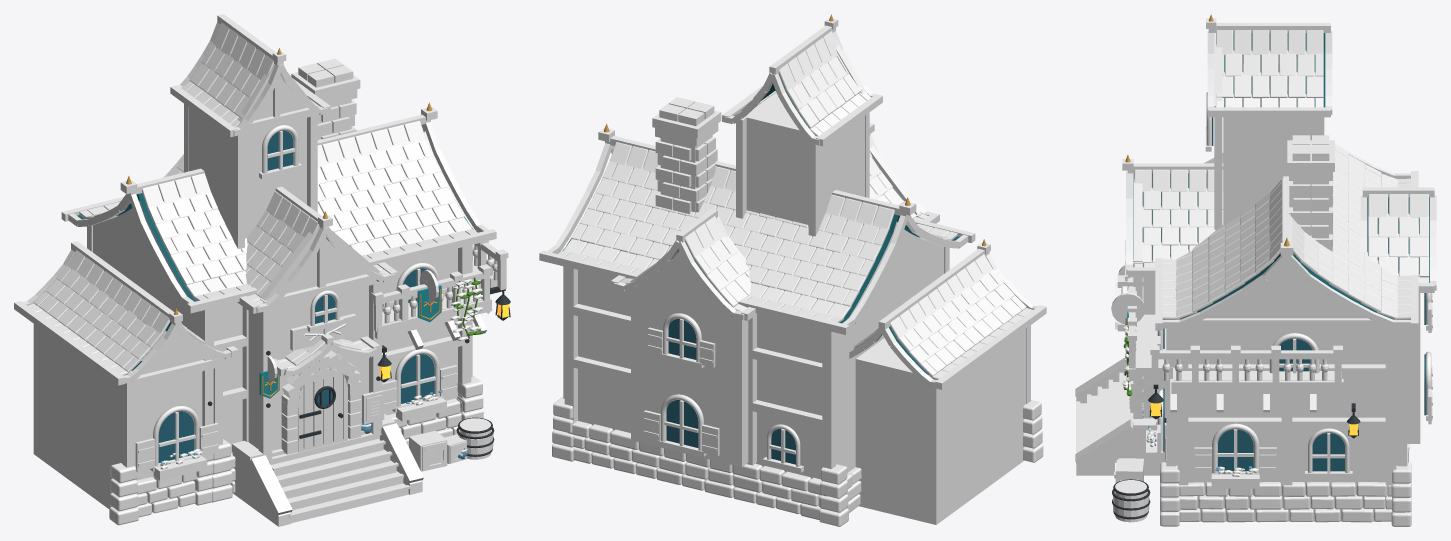
File: Maison_Fantasy_Modulaire.gltf
3 views of the same model, side by side, from view 1: azimuth 30°, elevation 25°; view 2: azimuth 150°, elevation 25°; view 3: azimuth 270°, elevation 25° (orthographic).
Parts seen in each view (by area): view 1: Wall_LeftWing_Block, Wall_Main_Block, Wall_Upper_Dormer_Block, Wall_Entry_Projection, Foundation_LeftWing_Core, Door_Front_Main_Leaf, Roof_Main_Front_Eave_Beam, Timber_Entry_Post_-2.79, Wall_Main_Left_Gable, Roof_LeftWing_Left_Eave_Beam, Stair_Cheek_L, Wall_Entry_Gable (+46 smaller); view 2: Wall_Main_Block, Wall_LeftWing_Block, Wall_Rear_Projection, Wall_Upper_Dormer_Block, Foundation_LeftWing_Core, Roof_Main_Back_Eave_Beam, Wall_Rear_Gable, Timber_Back_Post_-4.38, Timber_Back_Post_+5.38, Wall_Main_Left_Gable, Timber_Back_Beam_3.55, Timber_Back_Beam_5.45 (+17 smaller); view 3: Wall_Main_Block, Wall_Upper_Dormer_Block, Wall_Main_Right_Gable, Timber_Right_Beam_3.55, Balcony_Side_Fascia, Timber_Right_Beam_7.15, Timber_Right_Post_+3.35, Stair_Cheek_R, Wall_Rear_Projection, Balcony_Side_TopRail, Timber_Right_Post_-3.35, Timber_Back_Post_+5.38 (+49 smaller).
Part boxes in pixels (bbox=[...]): Wall_LeftWing_Block: bbox=[33, 324, 202, 479]; Wall_Main_Block: bbox=[93, 215, 457, 451]; Wall_Upper_Dormer_Block: bbox=[188, 107, 306, 240]; Wall_Entry_Projection: bbox=[248, 286, 368, 450]; Foundation_LeftWing_Core: bbox=[33, 417, 154, 512]; Door_Front_Main_Leaf: bbox=[298, 368, 347, 452]; Roof_Main_Front_Eave_Beam: bbox=[187, 229, 496, 313]; Timber_Entry_Post_-2.79: bbox=[258, 309, 272, 462]; Wall_Main_Left_Gable: bbox=[94, 200, 184, 291]; Roof_LeftWing_Left_Eave_Beam: bbox=[14, 301, 125, 385]; Stair_Cheek_L: bbox=[232, 452, 291, 526]; Wall_Entry_Gable: bbox=[287, 238, 365, 293]; Wall_Main_Block: bbox=[578, 237, 943, 477]; Wall_LeftWing_Block: bbox=[855, 329, 1026, 487]; Wall_Rear_Projection: bbox=[631, 290, 748, 467]; Wall_Upper_Dormer_Block: bbox=[745, 92, 864, 226]; Foundation_LeftWing_Core: bbox=[859, 425, 1024, 524]; Roof_Main_Back_Eave_Beam: bbox=[539, 250, 849, 334]; Wall_Rear_Gable: bbox=[630, 250, 725, 312]; Timber_Back_Post_-4.38: bbox=[822, 329, 835, 481]; Timber_Back_Post_+5.38: bbox=[564, 266, 577, 421]; Wall_Main_Left_Gable: bbox=[851, 221, 942, 313]; Timber_Back_Beam_3.55: bbox=[567, 356, 822, 427]; Timber_Back_Beam_5.45: bbox=[567, 304, 824, 375]; Wall_Main_Block: bbox=[1175, 328, 1397, 481]; Wall_Upper_Dormer_Block: bbox=[1223, 117, 1316, 225]; Wall_Main_Right_Gable: bbox=[1206, 261, 1367, 318]; Timber_Right_Beam_3.55: bbox=[1178, 417, 1395, 430]; Balcony_Side_Fascia: bbox=[1171, 379, 1343, 393]; Timber_Right_Beam_7.15: bbox=[1180, 318, 1393, 328]; Timber_Right_Post_+3.35: bbox=[1385, 326, 1396, 485]; Stair_Cheek_R: bbox=[1076, 422, 1166, 475]; Wall_Rear_Projection: bbox=[1407, 293, 1420, 443]; Balcony_Side_TopRail: bbox=[1155, 350, 1337, 359]; Timber_Right_Post_-3.35: bbox=[1177, 326, 1188, 485]; Timber_Back_Post_+5.38: bbox=[1398, 328, 1407, 466].
Bounding box in the file's own units: 14.85 × 15.08 × 11.65.
